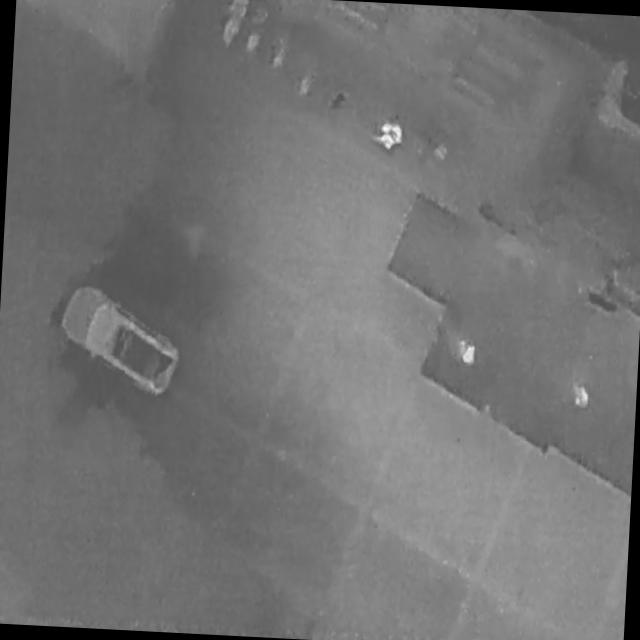person: (374, 117, 407, 154), (569, 384, 593, 410), (459, 341, 477, 367)
